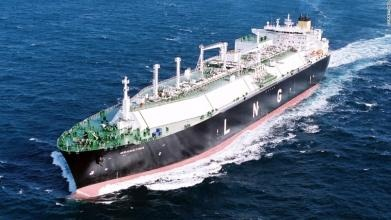Cargoship: (56, 9, 331, 198)
